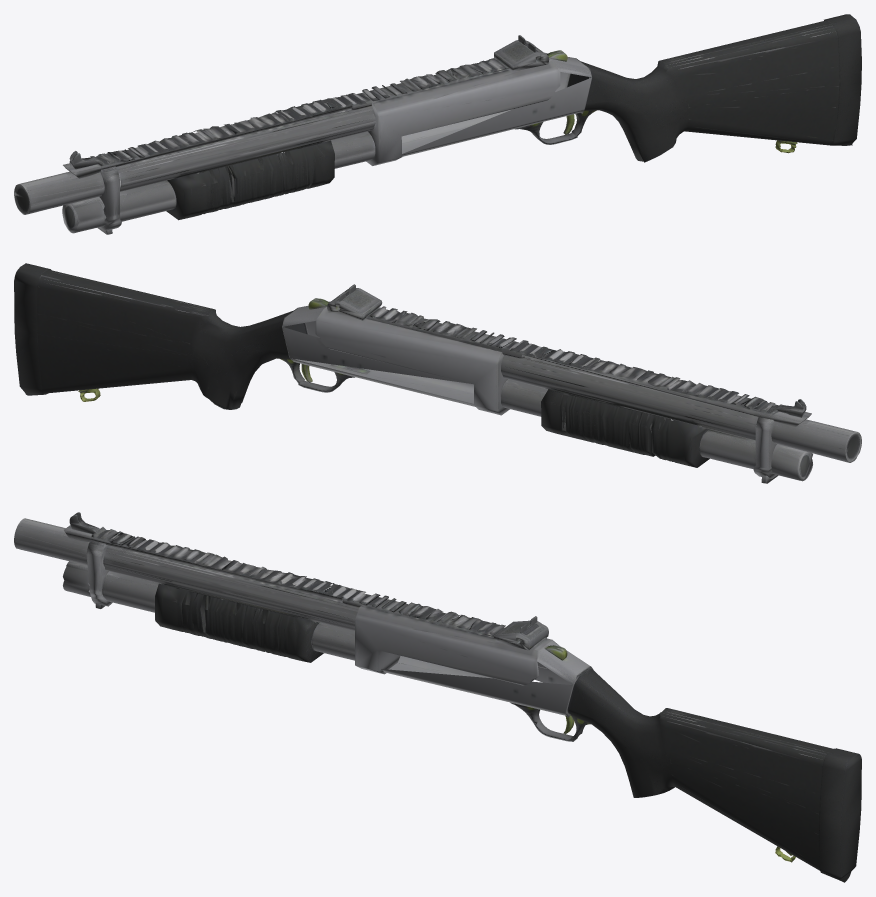
Rendered from sg_breacher.glb.
The picture shows the model from 3 angles, top to bottom: view 1: azimuth 30°, elevation 25°; view 2: azimuth 150°, elevation 25°; view 3: azimuth 330°, elevation 25°; orthographic projection.
Size of the model in its own units: 0.957 by 0.2002 by 0.0591.
1 material, 1 textured.
